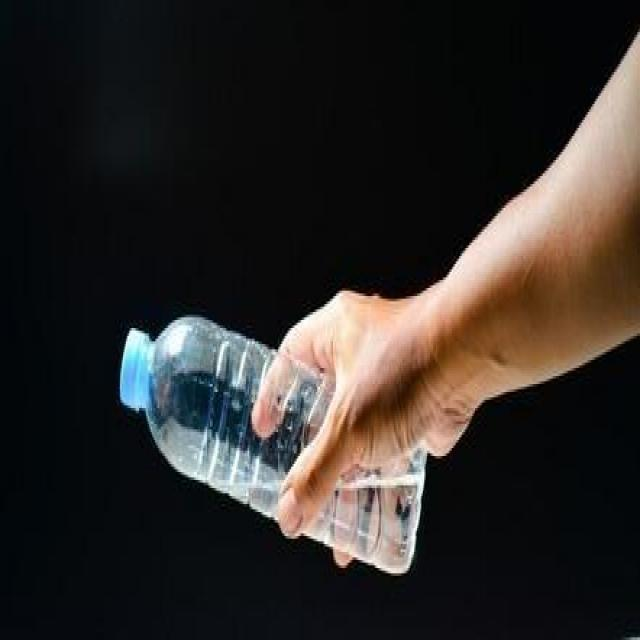bottle-plastic: (117, 309, 430, 571)
